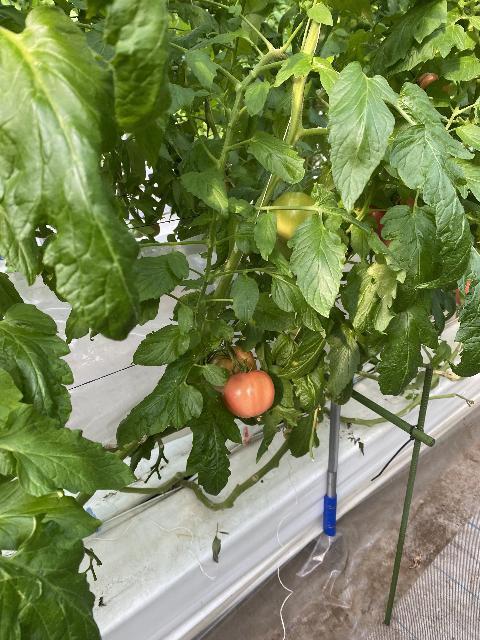b_green: (270, 191, 319, 245)
b_half_ripened: (222, 370, 276, 418), (207, 347, 258, 393)
